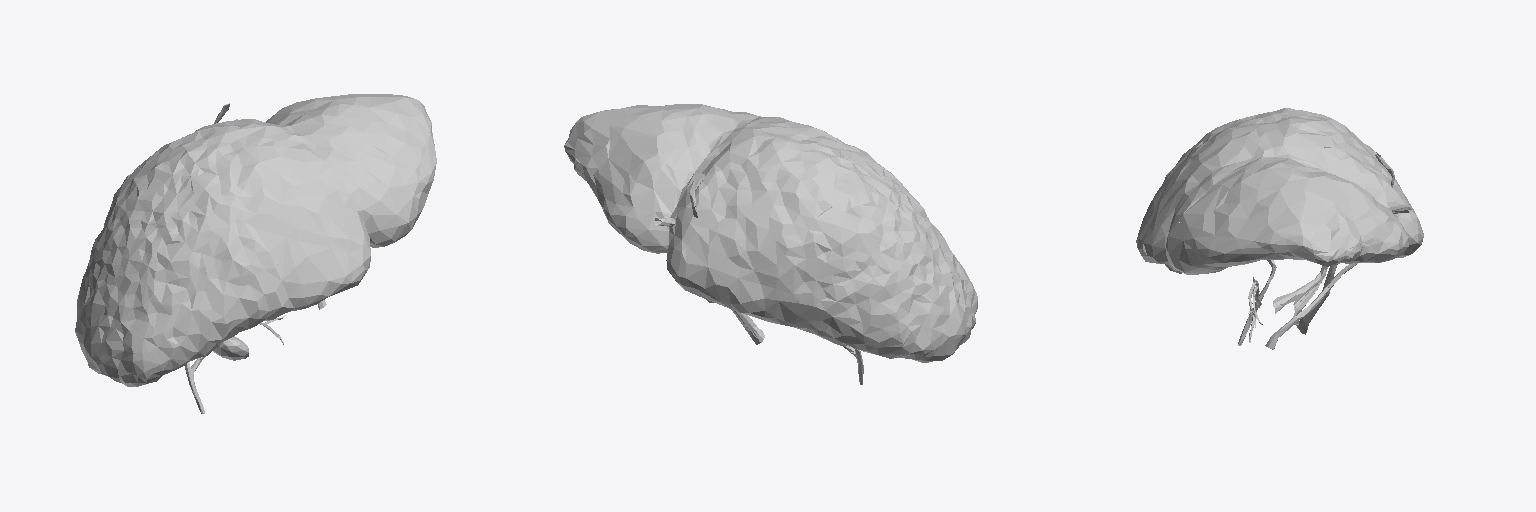
The model's file is 0.2LiverHealthy.obj.
3 renders of one model, left to right at view 1: azimuth 30°, elevation 25°; view 2: azimuth 150°, elevation 25°; view 3: azimuth 270°, elevation 25°, orthographic.
Parts seen in each view (by area): view 1: hepatic_artery_hepaticarteryvertices; view 2: hepatic_artery_hepaticarteryvertices; view 3: hepatic_artery_hepaticarteryvertices.
Boxes of the visible parts, x1=… form: hepatic_artery_hepaticarteryvertices: x1=75, y1=94, x2=436, y2=413; hepatic_artery_hepaticarteryvertices: x1=564, y1=104, x2=977, y2=384; hepatic_artery_hepaticarteryvertices: x1=1136, y1=108, x2=1423, y2=349.
Size of the model in its own units: 0.7263 by 0.4829 by 0.5009.